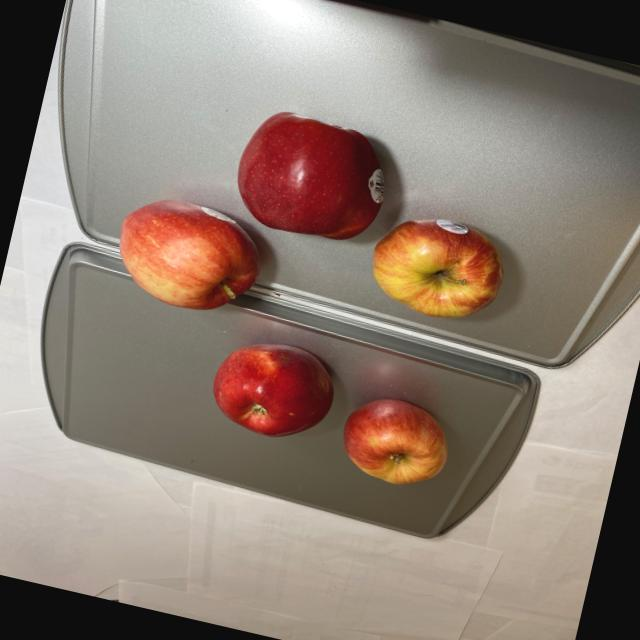apple: (102, 77, 528, 376), (195, 329, 465, 496)
